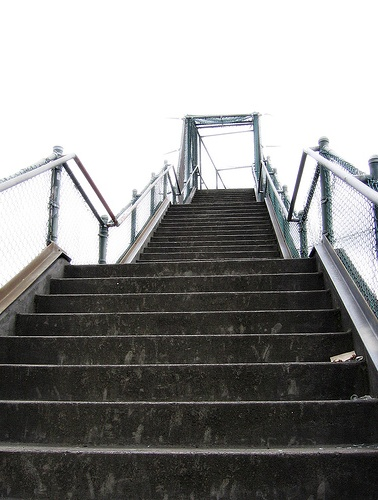stairs_up: (4, 182, 378, 500)
